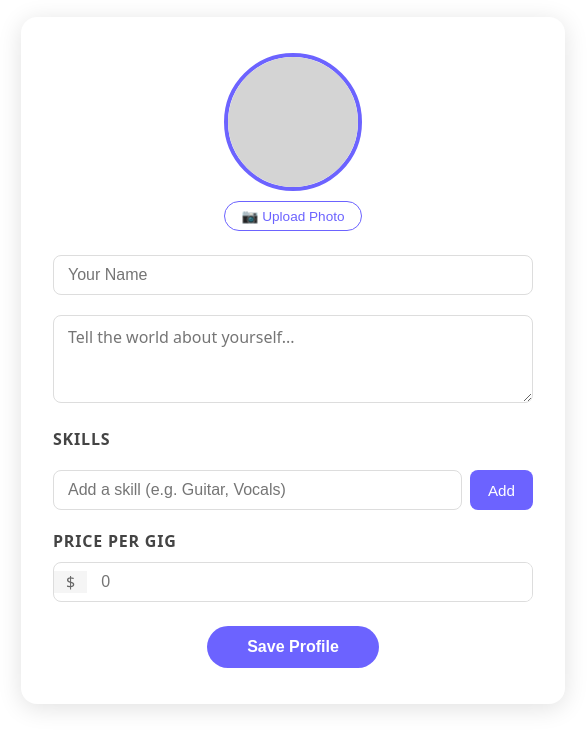
Scenario: removes a skill tag when × is clicked
Type "Bass" into the field named "Skill input" at {"x": 258, "y": 490}, box [53,470,462,510]
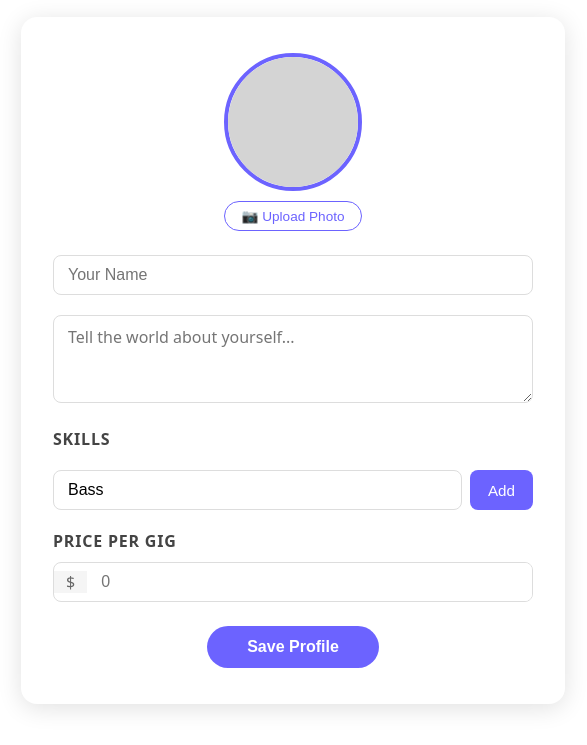
Click the button "Add" at {"x": 502, "y": 490}, box [470,470,533,510]
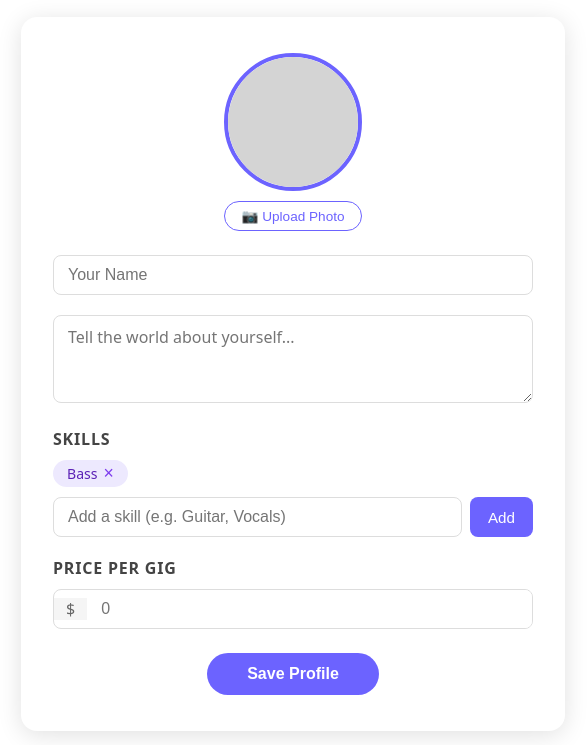
Click the button named "Remove skill Bass" at {"x": 109, "y": 474}, box [104,465,114,482]
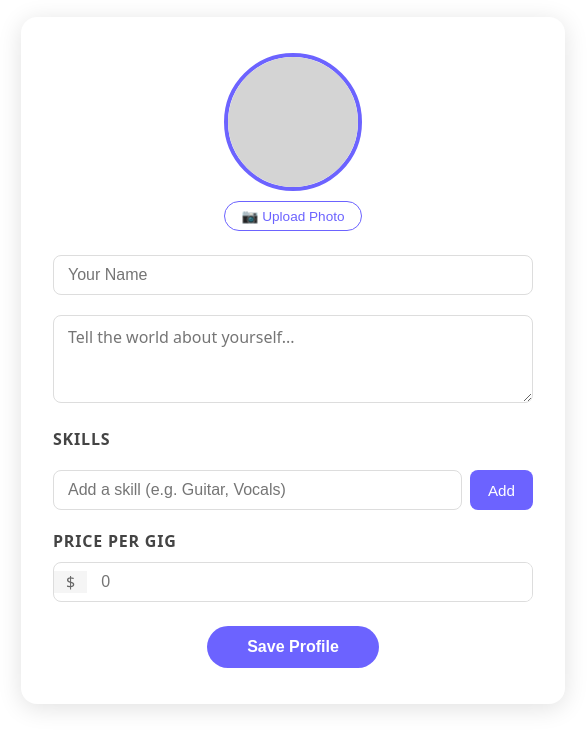
Expected: the text "Bass" is gone
